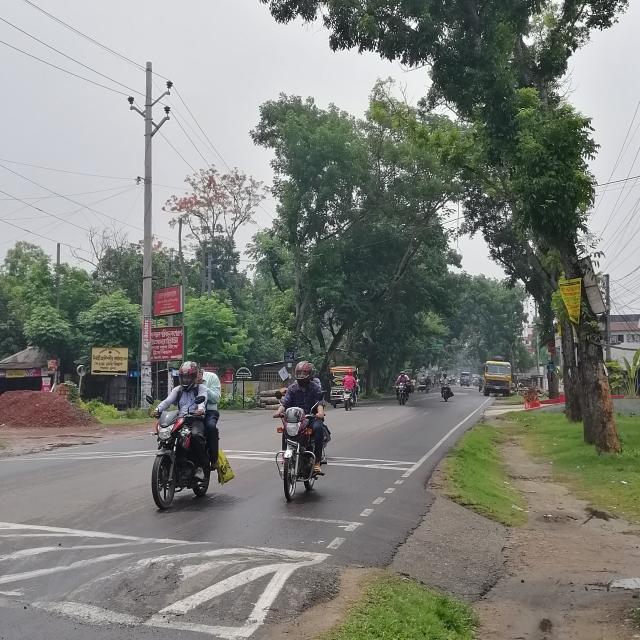Motorbike: (142, 400, 239, 519), (267, 399, 339, 502)
